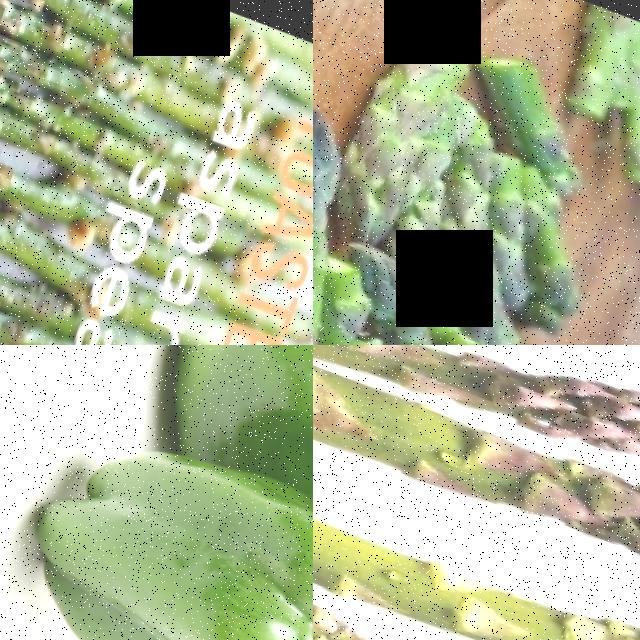asparagus: (313, 345, 640, 632), (313, 407, 640, 640), (313, 345, 640, 518), (313, 2, 471, 251), (313, 532, 530, 640), (480, 136, 564, 285), (313, 82, 355, 242)
bell pepper: (0, 405, 313, 640), (145, 345, 313, 545)
